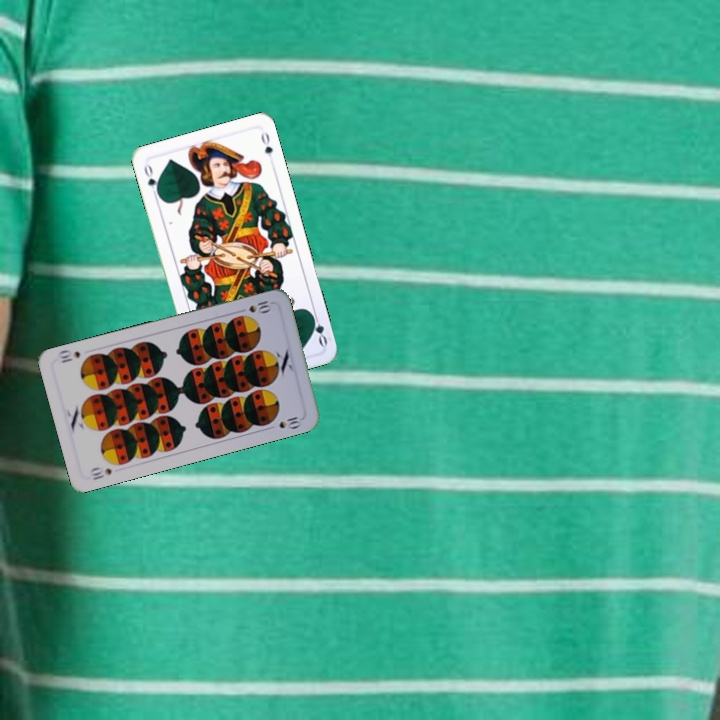GO: (307, 308, 330, 348), (140, 160, 162, 200)
S10: (86, 463, 114, 483), (244, 297, 274, 315)
